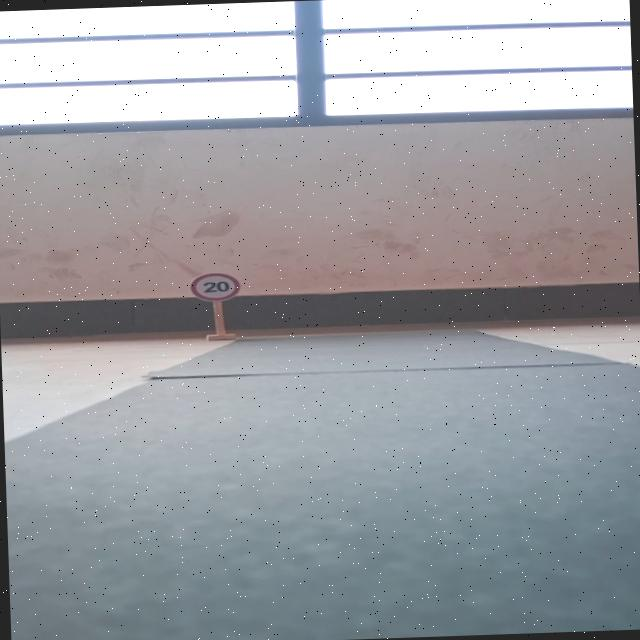Speed20: (187, 269, 242, 303)
